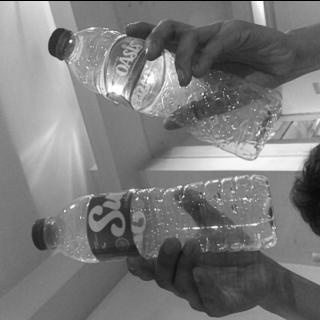plastic_bottles: (46, 26, 286, 160), (30, 170, 279, 260)
